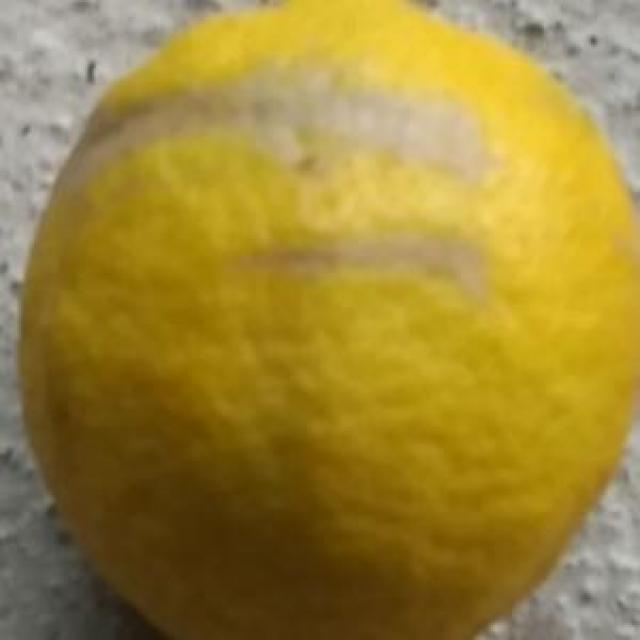lemon: (19, 2, 640, 640)
